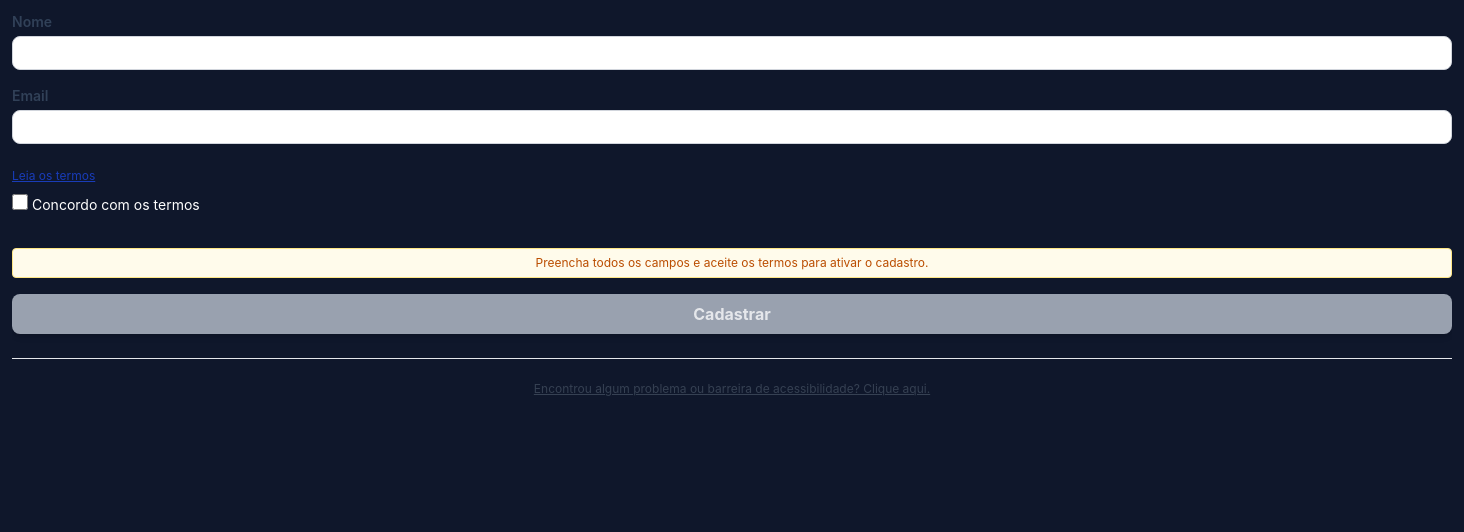
it: Teste Renderização › Deve renderizar o modal de texto para Feedback do footer ao clicar no link
This screenshot has width=1464, height=532.
Click the button "acessibilidade": (732, 389) [530,377,934,401]
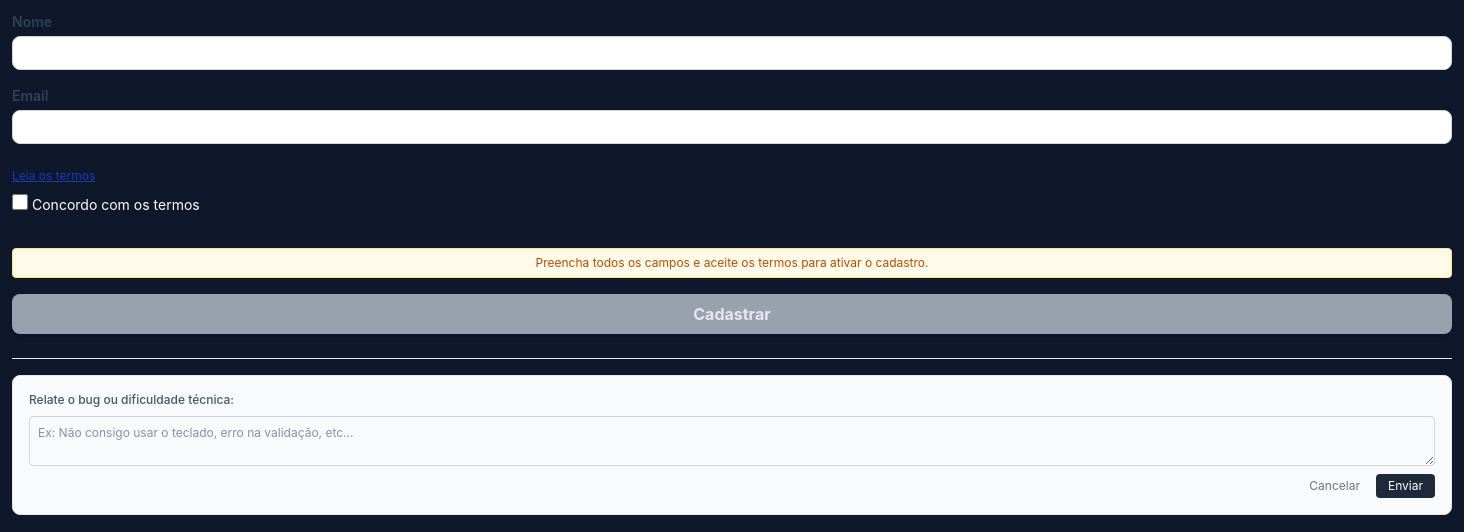
Expected: the text box with placeholder "Ex: Não consigo usar o teclado, erro na validação, etc..." is shown, [29,416,1435,466]
Expected: the button "Enviar" is shown, [1376,474,1435,498]
Expected: the button "Cancelar" is shown, [1301,474,1368,498]
